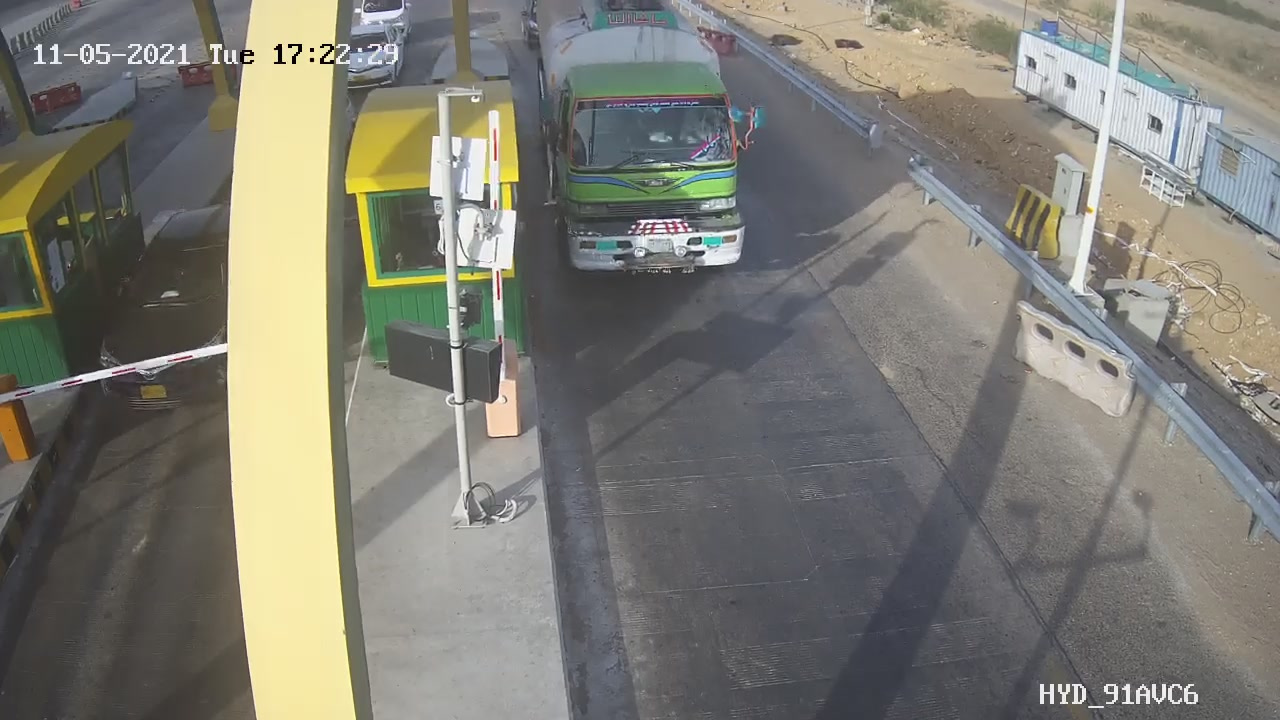F6: (518, 1, 787, 300)
